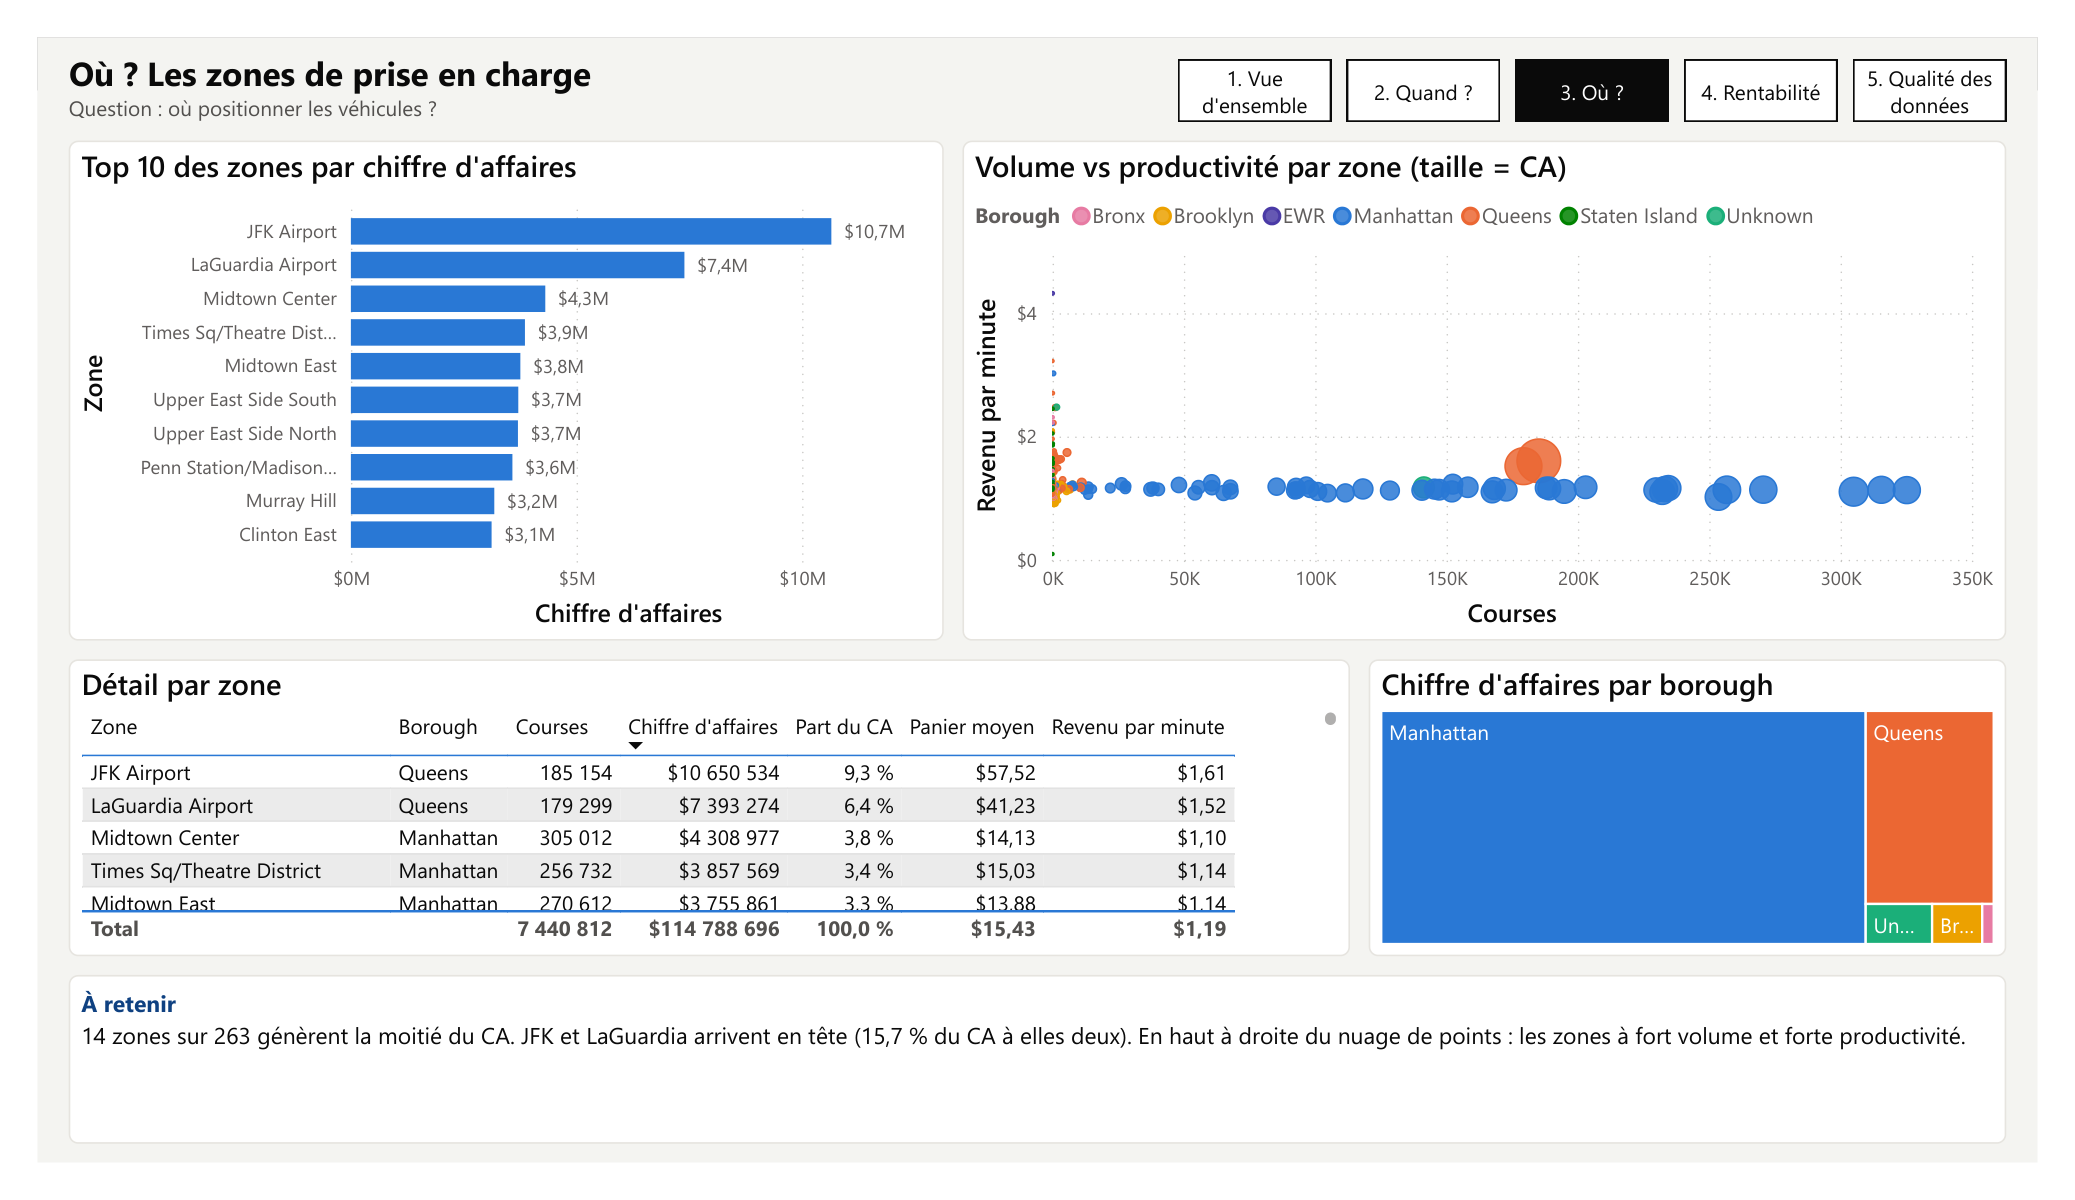

The dashboard page shown, as its layout file describes it:
{"tool":"powerbi","page":{"name":"3. Où ?","canvas":[1280,720],"ordinal":2},"visuals":[{"type":"textbox","box":[20,8,700,52],"z":0},{"type":"pageNavigator","box":[730,14,530,40],"z":1000},{"type":"clusteredBarChart","title":"Top 10 des zones par chiffre d''affaires","fields":{"Category":["dim_zone.Zone"],"Y":["_Mesures.CA top 10 zones"]},"box":[20,66,560,320],"z":2000},{"type":"scatterChart","title":"Volume vs productivité par zone (taille = CA)","fields":{"Category":["dim_zone.Zone"],"Series":["dim_zone.Borough"],"Size":["_Mesures.Chiffre d'affaires"],"X":["_Mesures.Courses"],"Y":["_Mesures.Revenu par minute"]},"box":[592,66,668,320],"z":3000},{"type":"tableEx","title":"Détail par zone","fields":{"Values":["dim_zone.Zone","dim_zone.Borough","_Mesures.Courses","_Mesures.Chiffre d'affaires","_Mesures.Part du CA","_Mesures.Panier moyen","_Mesures.Revenu par minute"]},"box":[20,398,820,190],"z":4000},{"type":"treemap","title":"Chiffre d''affaires par borough","fields":{"Group":["dim_zone.Borough"],"Values":["_Mesures.Chiffre d'affaires"]},"box":[852,398,408,190],"z":5000},{"type":"textbox","box":[20,600,1240,108],"z":6000}]}

Visuals, with their boxes on the page's 1280x720 design canvas (x1, y1, x2, y2). These are canvas units, not pixel positions in the 2075x1200 screenshot, which may show the page scaled, cropped or inside an application window:
textbox: left=20, top=8, right=720, bottom=60
pageNavigator: left=730, top=14, right=1260, bottom=54
"Top 10 des zones par chiffre d''affaires" clusteredBarChart: left=20, top=66, right=580, bottom=386
"Volume vs productivité par zone (taille = CA)" scatterChart: left=592, top=66, right=1260, bottom=386
"Détail par zone" tableEx: left=20, top=398, right=840, bottom=588
"Chiffre d''affaires par borough" treemap: left=852, top=398, right=1260, bottom=588
textbox: left=20, top=600, right=1260, bottom=708
